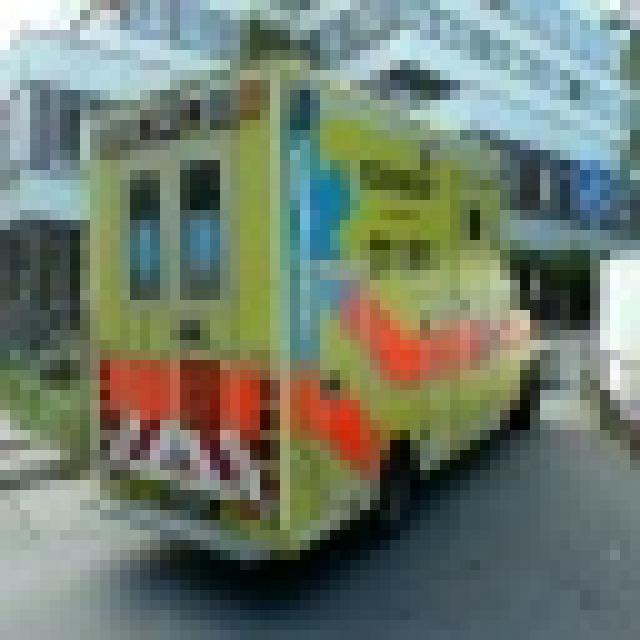Ambulance: (70, 50, 540, 560)
